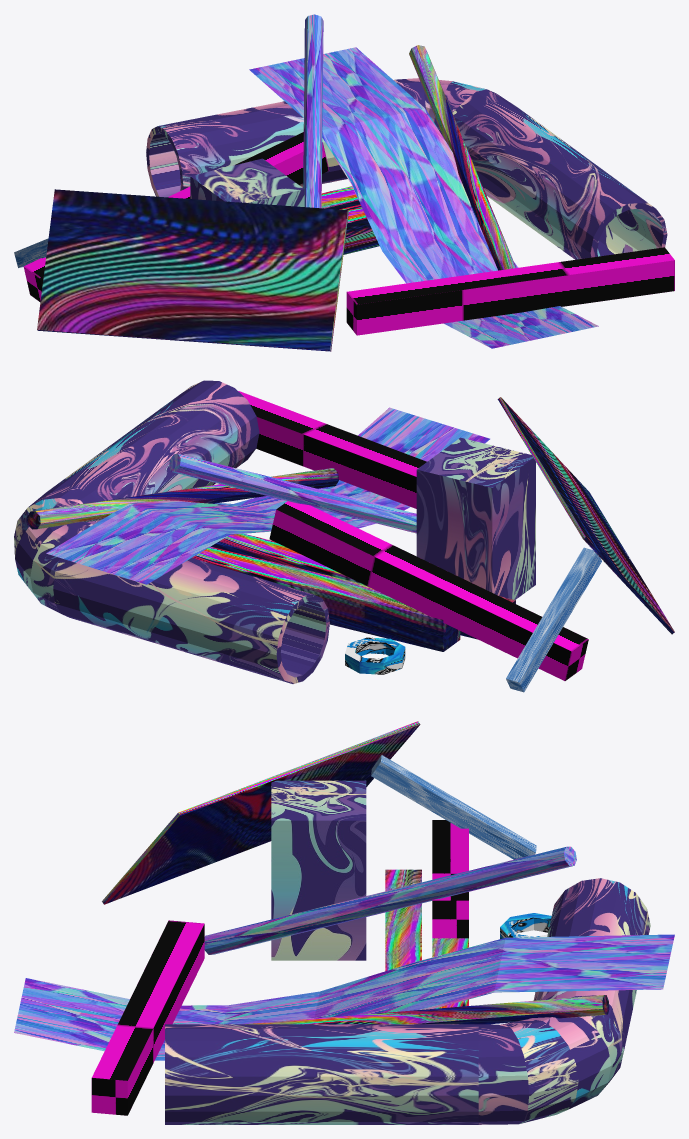
Rendered from scrap_metal_wall_1.fbx.
3 views of the same model, one above another, from view 1: azimuth 30°, elevation 25°; view 2: azimuth 150°, elevation 25°; view 3: azimuth 270°, elevation 25° (orthographic). The views are drawn at different scales.
Parts seen in each view (by area): view 1: Cube, Cylinder.004, Plane.003, Cube.006, Cylinder.007, Cube.005, Cylinder.008, Cube.003, Cube.001, Cube.002, Cube.004; view 2: Cylinder.004, Cube.005, Plane.003, Cube.003, Cube.006, Cube.002, Cube, Cylinder.008, Cylinder.007, Cube.004, Cube.001, Cylinder.006; view 3: Cylinder.004, Plane.003, Cube.005, Cube, Cube.006, Cylinder.008, Cylinder.007, Cube.004, Cube.003, Cube.001, Cylinder.006, Cube.002.
Part boxes in pixels (box(x1,y1,x2,y2)): Cube: box(37, 189, 348, 351); Cylinder.004: box(146, 78, 667, 259); Plane.003: box(249, 47, 598, 348); Cube.006: box(346, 247, 674, 335); Cylinder.007: box(409, 45, 515, 270); Cube.005: box(190, 158, 304, 206); Cylinder.008: box(303, 14, 323, 208); Cube.003: box(23, 132, 329, 302); Cube.001: box(339, 204, 379, 254); Cube.002: box(321, 186, 360, 209); Cube.004: box(14, 238, 48, 267); Cylinder.004: box(14, 380, 329, 683); Cube.005: box(416, 437, 535, 599); Plane.003: box(46, 407, 489, 584); Cube.003: box(269, 501, 588, 680); Cube.006: box(238, 391, 426, 508); Cube.002: box(192, 546, 460, 651); Cube: box(497, 397, 674, 634); Cylinder.008: box(169, 454, 416, 533); Cylinder.007: box(27, 468, 338, 529); Cube.004: box(506, 547, 601, 692); Cube.001: box(211, 533, 515, 639); Cylinder.006: box(345, 637, 405, 674); Cylinder.004: box(165, 878, 650, 1124); Plane.003: box(14, 934, 674, 1060); Cube.005: box(271, 780, 366, 960); Cube: box(102, 721, 420, 904); Cube.006: box(91, 920, 204, 1115); Cylinder.008: box(204, 846, 576, 954); Cylinder.007: box(245, 995, 609, 1024); Cube.004: box(371, 755, 536, 859); Cube.003: box(432, 820, 468, 938); Cube.001: box(385, 869, 421, 971); Cylinder.006: box(500, 913, 551, 938); Cube.002: box(432, 938, 468, 1008).
Size of the model in its own units: 196 by 58.92 by 179.
Materials: 7 (7 with a texture image).
